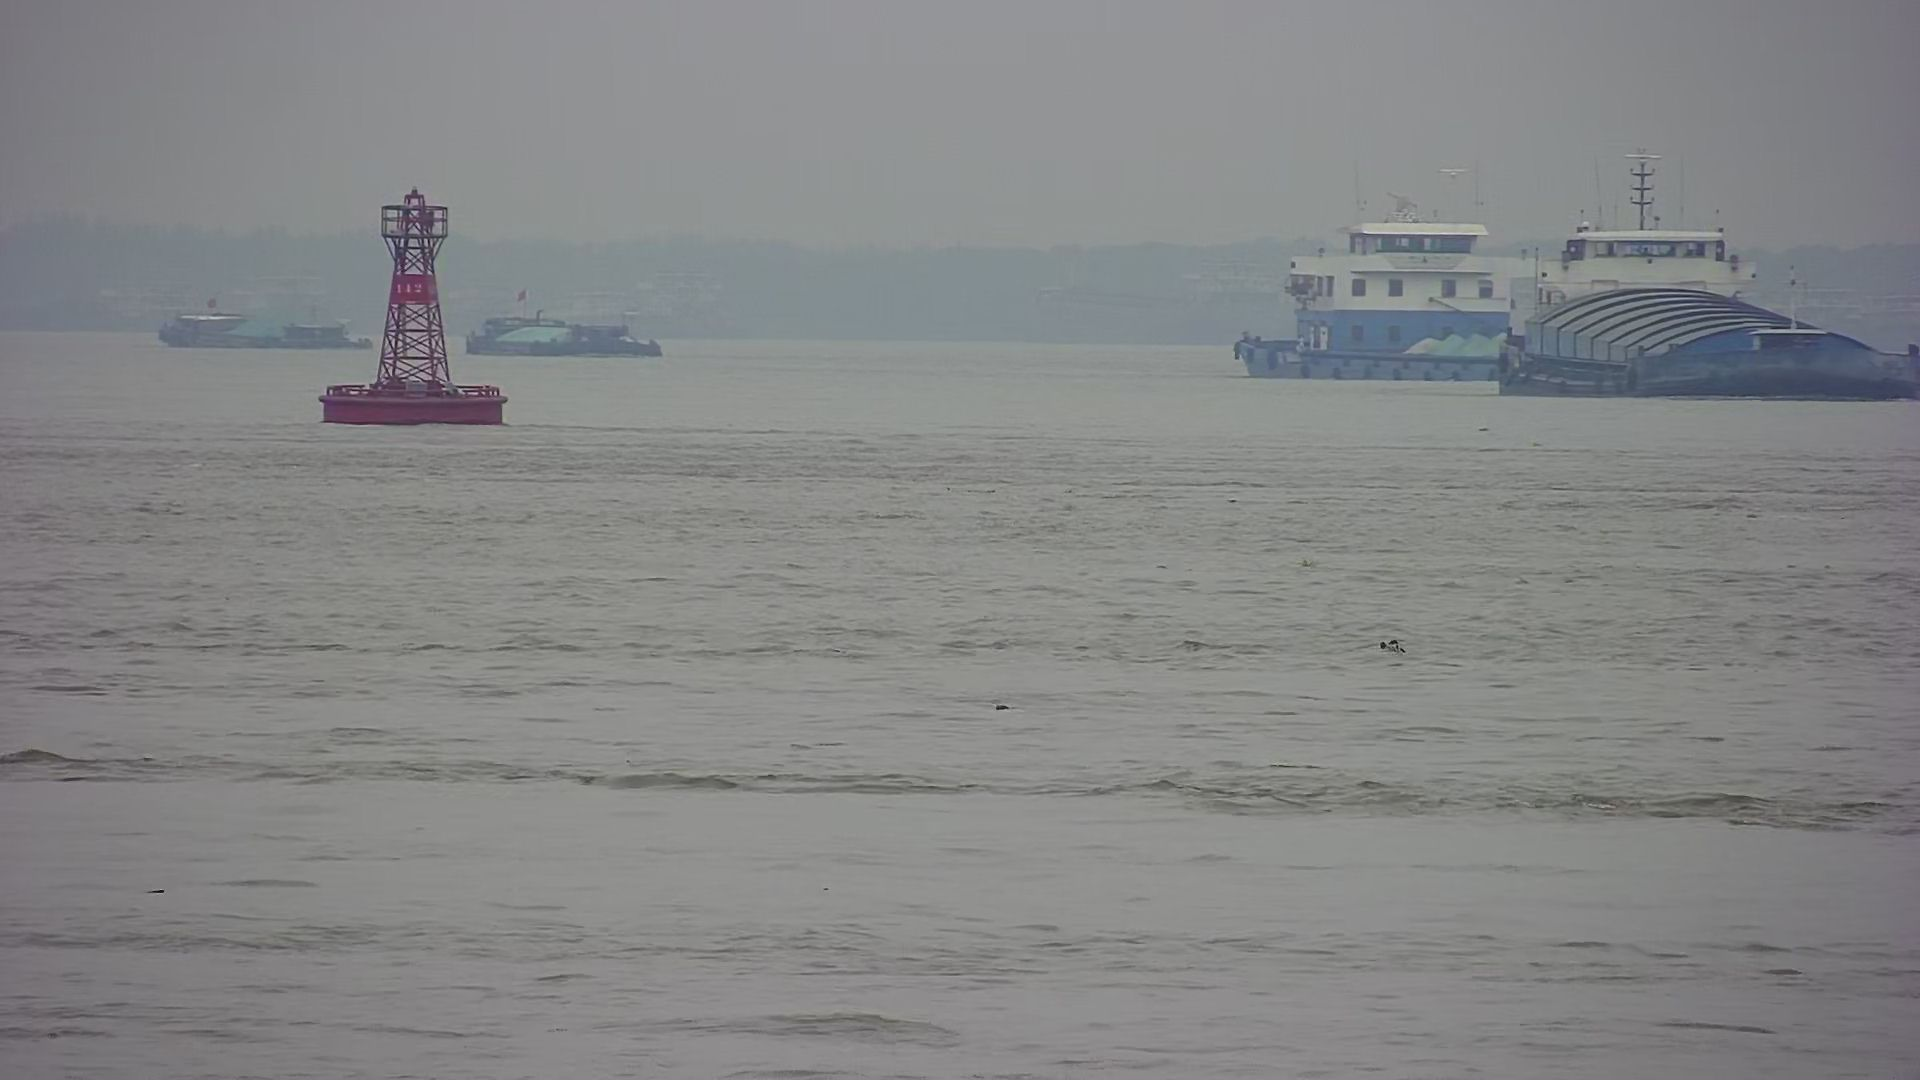platform: (320, 179, 506, 425)
ship: (1501, 153, 1907, 406), (1234, 208, 1499, 386), (462, 305, 675, 364), (152, 305, 378, 353)
